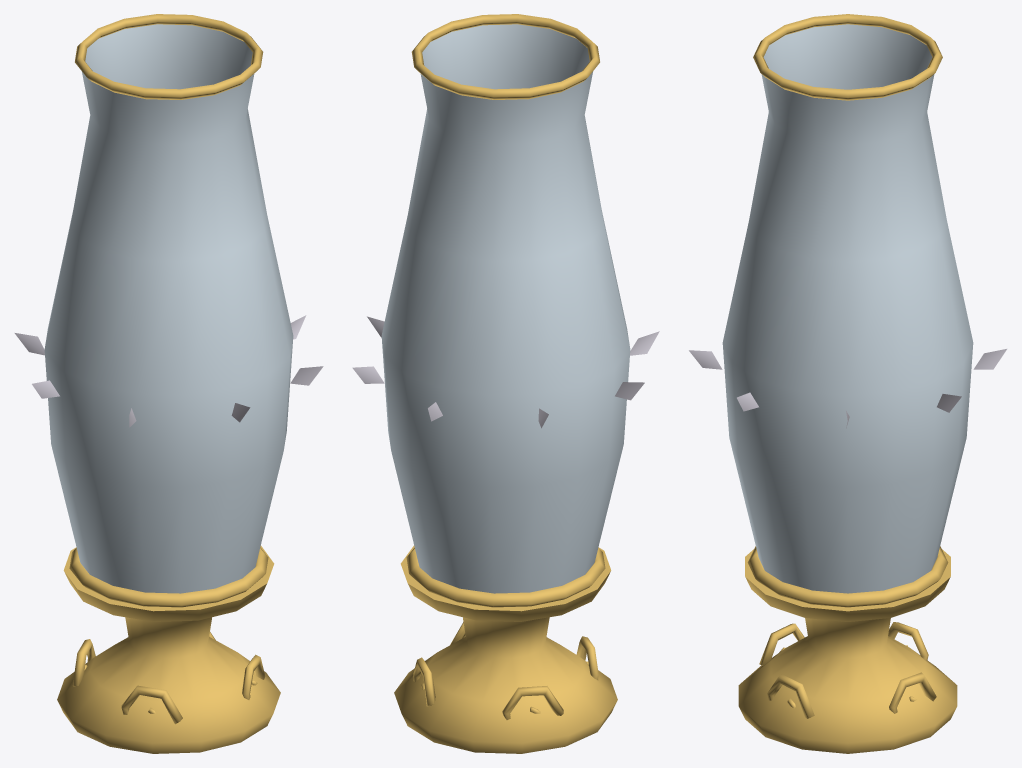
Rendered from hurricane_lamp.glb.
3 views of the same model, side by side, from view 1: azimuth 30°, elevation 25°; view 2: azimuth 150°, elevation 25°; view 3: azimuth 270°, elevation 25° (orthographic).
Parts seen in each view (by area): view 1: hurricane_lamp; view 2: hurricane_lamp; view 3: hurricane_lamp.
Part boxes in pixels (left/top/right/bottom): hurricane_lamp: left=14, top=14, right=323, bottom=753; hurricane_lamp: left=352, top=14, right=659, bottom=753; hurricane_lamp: left=689, top=14, right=1006, bottom=753.
Size of what is drawn, in the model's own units: 0.22 by 0.5 by 0.22.
